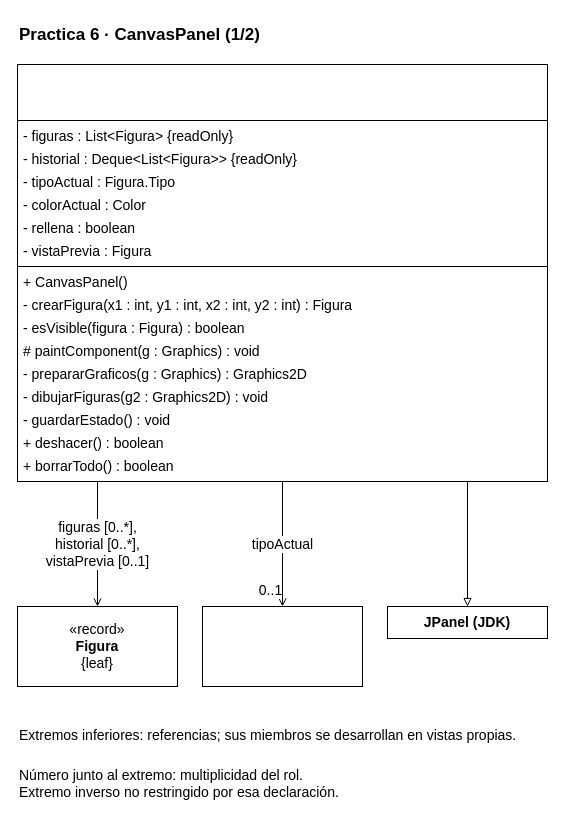
The diagram is 565 pixels wide and 821 high, and some of its shapes have lost their labels. Here are the shapes that lost their labels. From the top down, the box of each, then its label:
(16, 64, 548, 120): CanvasPanel {leaf}
(202, 606, 362, 686): «enumeration» Figura.Tipo {leaf}
